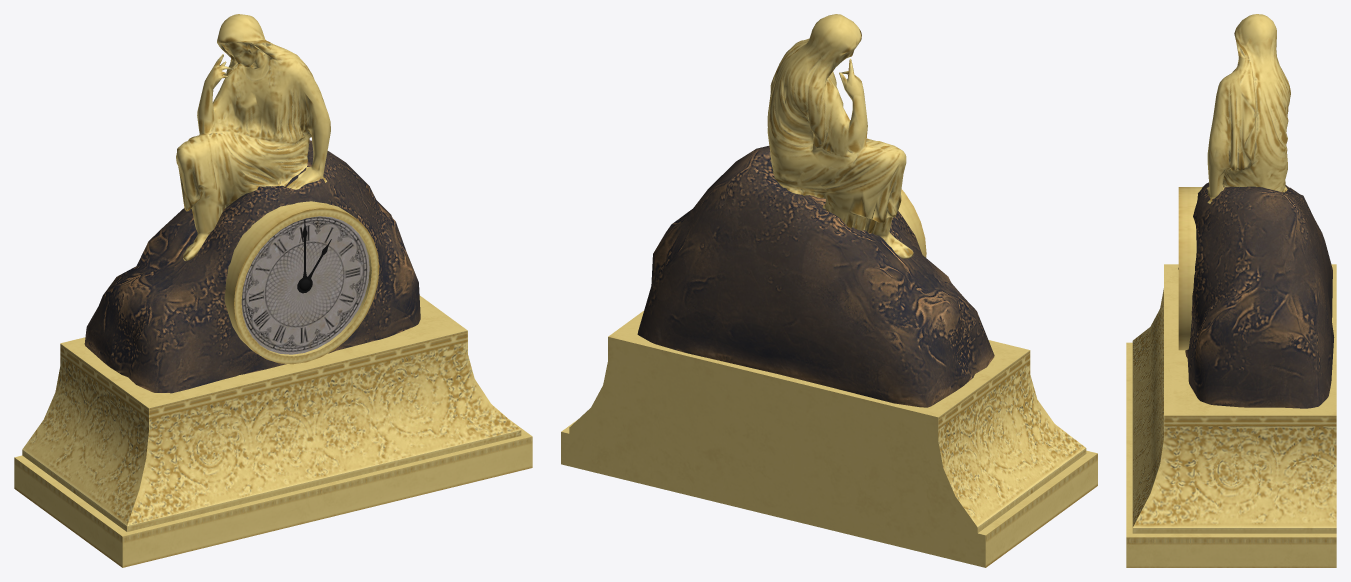
Rendered from table_clock.glb.
The picture shows the model from 3 angles, left to right: view 1: azimuth 30°, elevation 25°; view 2: azimuth 150°, elevation 25°; view 3: azimuth 270°, elevation 25°; orthographic projection. The views are drawn at different scales.
Visible parts, largest first — view 1: Object_2; view 2: Object_2; view 3: Object_2.
Part boxes in pixels (box(x1,y1,x2,y2)): Object_2: box(14, 14, 532, 567); Object_2: box(561, 14, 1097, 567); Object_2: box(1126, 14, 1336, 567).
Size of the model in its own units: 10.7 by 11.41 by 4.89.
Materials: 1 (1 with a texture image).
